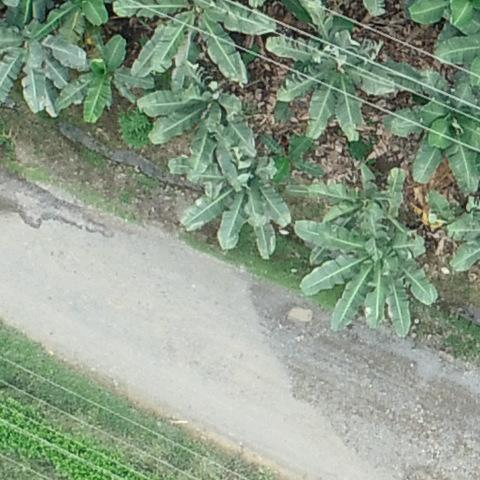Banana-plant: (304, 177, 429, 332), (268, 7, 388, 136), (115, 0, 273, 84), (180, 156, 293, 254), (138, 78, 256, 167), (0, 1, 83, 121), (398, 72, 480, 191), (62, 39, 148, 119)
